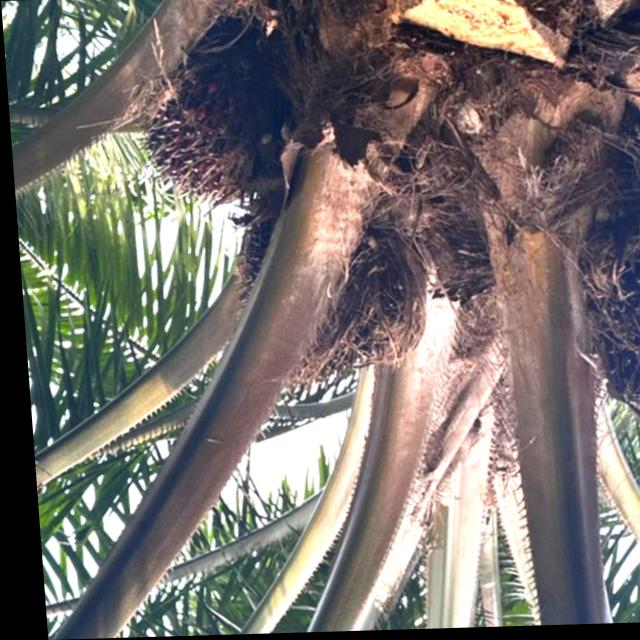unripe: (216, 196, 439, 407)
